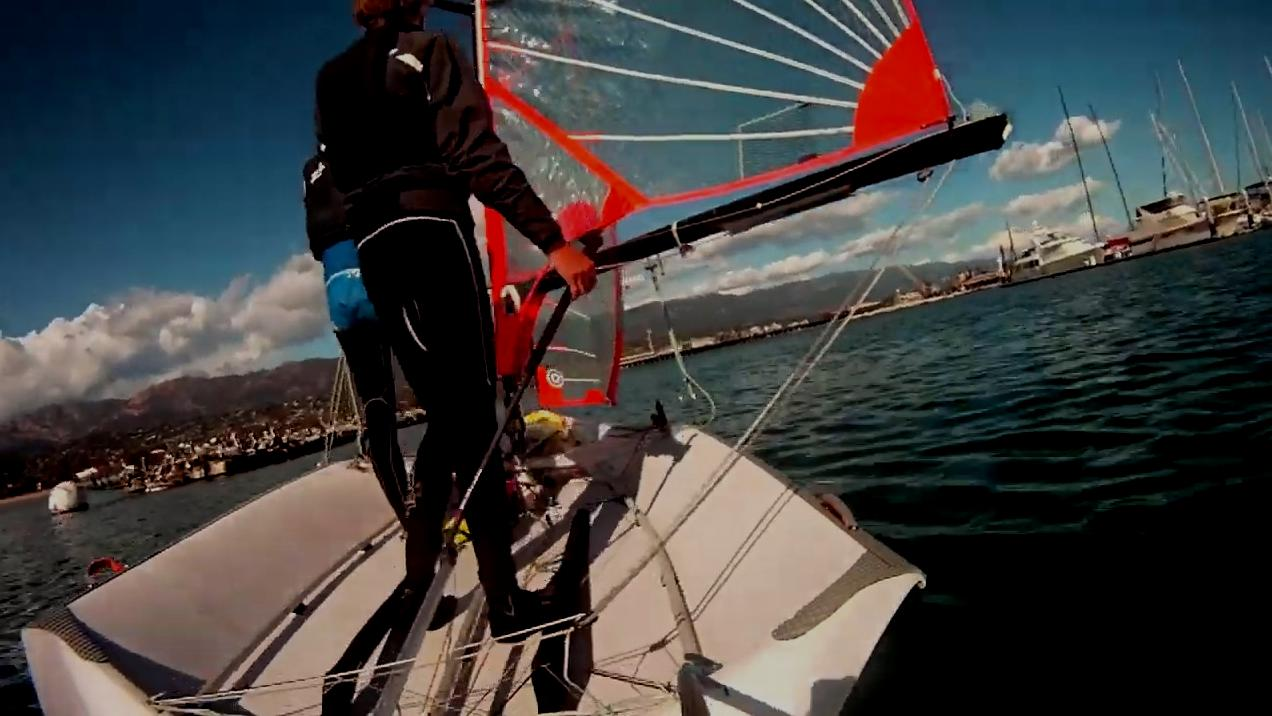boat: (19, 0, 1009, 716)
land: (623, 183, 1269, 363), (0, 359, 363, 497)
person: (317, 0, 561, 621), (303, 157, 407, 529)
sea: (618, 226, 1272, 716), (0, 443, 360, 716)
sky: (627, 0, 1272, 304), (0, 0, 359, 422)
